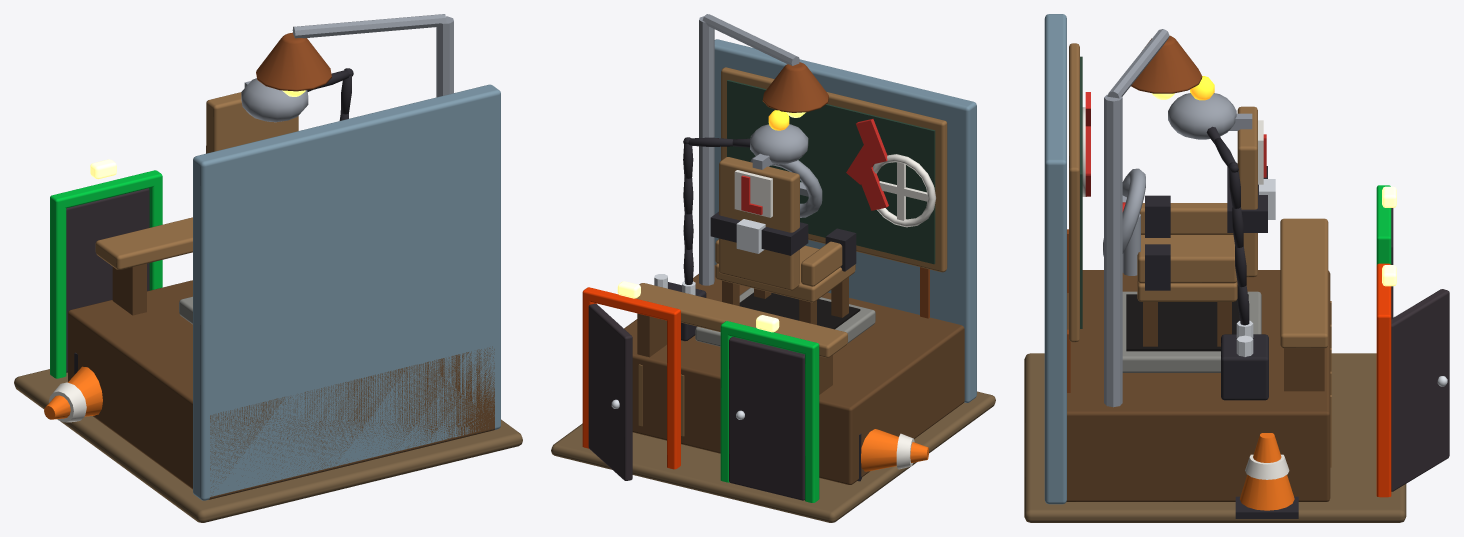
File: building_driving_center_t1.glb
3 renders of one model, left to right at view 1: azimuth 30°, elevation 25°; view 2: azimuth 150°, elevation 25°; view 3: azimuth 270°, elevation 25°, orthographic. The views are drawn at different scales.
Parts seen in each view (by area): view 1: Wall, Stage, Lot, Entry.Leaf, Bench.Top, Chair.Back, Lamp.Shade, Entry.Jamb, Lamp.Arm, Cap.Dome, Entry.Lintel, Bench.Leg (+4 smaller); view 2: Stage, Wall, Board.Face, Entry.Leaf, Lot, Exit.Leaf, Chair.Back, Board.Frame, Bench.Top, Lamp.Pole, Lamp.Shade, Entry.Jamb (+24 smaller); view 3: Stage, Lot, Wall, Exit.Leaf, Bench.Top, Lamp.Pole, Pad.Scorch, Board.Frame, Chair.Seat, Pad, Battery, Exit.Jamb.001 (+20 smaller).
Part boxes in pixels (bbox=[...]): Wall: bbox=[193, 84, 500, 500]; Stage: bbox=[68, 280, 494, 499]; Lot: bbox=[14, 369, 522, 522]; Entry.Leaf: bbox=[66, 188, 149, 372]; Bench.Top: bbox=[95, 217, 192, 269]; Chair.Back: bbox=[206, 92, 298, 153]; Lamp.Shade: bbox=[256, 32, 331, 91]; Entry.Jamb: bbox=[50, 205, 66, 378]; Lamp.Arm: bbox=[292, 14, 446, 38]; Cap.Dome: bbox=[241, 78, 308, 122]; Entry.Lintel: bbox=[50, 170, 162, 208]; Bench.Leg: bbox=[112, 263, 146, 315]; Stage: bbox=[624, 265, 964, 484]; Wall: bbox=[714, 39, 976, 402]; Board.Face: bbox=[727, 80, 935, 264]; Entry.Leaf: bbox=[729, 337, 804, 500]; Lot: bbox=[551, 391, 995, 522]; Exit.Leaf: bbox=[588, 303, 632, 480]; Chair.Back: bbox=[719, 157, 799, 290]; Board.Frame: bbox=[721, 67, 947, 272]; Bench.Top: bbox=[635, 283, 847, 357]; Lamp.Pole: bbox=[699, 16, 714, 285]; Lamp.Shade: bbox=[762, 62, 828, 112]; Entry.Jamb: bbox=[805, 351, 819, 502]; Stage: bbox=[1066, 270, 1330, 501]; Lot: bbox=[1024, 353, 1406, 522]; Wall: bbox=[1044, 14, 1066, 504]; Exit.Leaf: bbox=[1391, 289, 1449, 491]; Bench.Top: bbox=[1280, 218, 1328, 348]; Lamp.Pole: bbox=[1104, 94, 1122, 407]; Pad.Scorch: bbox=[1126, 294, 1248, 351]; Board.Frame: bbox=[1069, 43, 1079, 342]; Chair.Seat: bbox=[1137, 235, 1237, 301]; Pad: bbox=[1122, 291, 1261, 372]; Battery: bbox=[1221, 334, 1268, 400]; Exit.Jamb.001: bbox=[1376, 324, 1391, 497].
Bounding box in the file's own units: 2.38 × 2.48 × 2.29.
